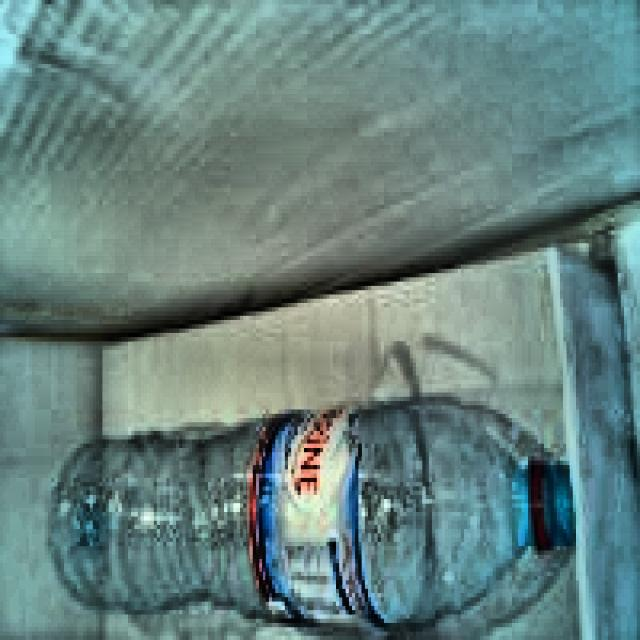plastic bottle: (54, 401, 574, 625)
